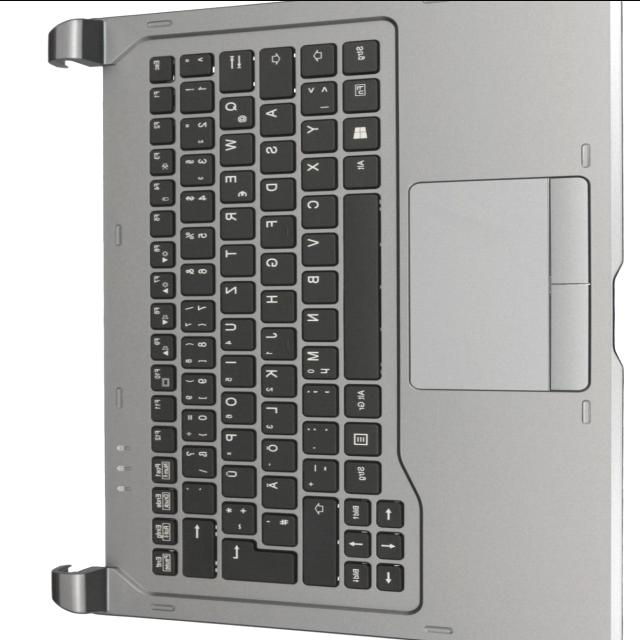0: (178, 406, 214, 440)
1: (177, 78, 212, 112)
2: (177, 115, 212, 149)
3: (177, 151, 213, 185)
4: (178, 188, 213, 220)
5: (178, 224, 213, 258)
6: (178, 261, 213, 294)
7: (178, 298, 214, 331)
8: (178, 334, 214, 367)
9: (178, 370, 214, 404)
a: (257, 100, 293, 134)
accent: (179, 479, 214, 512)
ae: (258, 473, 295, 508)
alt-left: (340, 151, 379, 187)
altgr-right: (340, 381, 379, 416)
b: (298, 268, 336, 303)
c: (298, 192, 336, 227)
caret: (177, 51, 211, 75)
comma: (299, 381, 337, 415)
d: (257, 175, 294, 209)
del: (179, 516, 213, 577)
e: (217, 168, 253, 202)
enter: (219, 536, 295, 582)
f: (257, 212, 294, 246)
g: (257, 250, 294, 284)
h: (257, 287, 295, 321)
hash: (258, 510, 295, 544)
i: (217, 353, 253, 387)
j: (257, 325, 295, 359)
k: (257, 362, 295, 396)
keyboard: (139, 17, 419, 612)
l: (258, 399, 296, 433)
less: (297, 78, 335, 114)
m: (299, 344, 337, 379)
minus: (299, 456, 336, 490)
n: (299, 305, 337, 340)
o: (217, 389, 255, 423)
oe: (258, 436, 295, 470)
p: (218, 426, 255, 460)
plus: (218, 499, 254, 533)
point: (299, 419, 337, 453)
q: (216, 93, 253, 127)
r: (217, 204, 253, 238)
s: (257, 138, 293, 172)
shift-left: (297, 40, 335, 76)
shift-lock: (255, 44, 293, 97)
shift-right: (299, 493, 336, 584)
space: (340, 190, 378, 378)
ss: (179, 443, 214, 477)
strg-left: (339, 37, 378, 73)
strg-right: (341, 457, 379, 493)
t: (217, 241, 253, 275)
tab: (215, 47, 251, 90)
u: (217, 315, 254, 349)
ue: (219, 462, 255, 496)
v: (298, 230, 336, 264)
w: (217, 131, 253, 165)
x: (298, 155, 336, 189)
y: (298, 117, 336, 152)
z: (217, 278, 254, 312)
